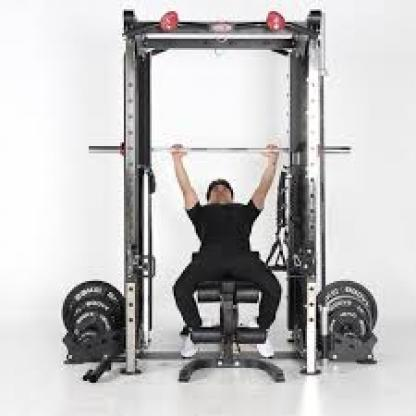smith machine: (90, 9, 352, 385)
